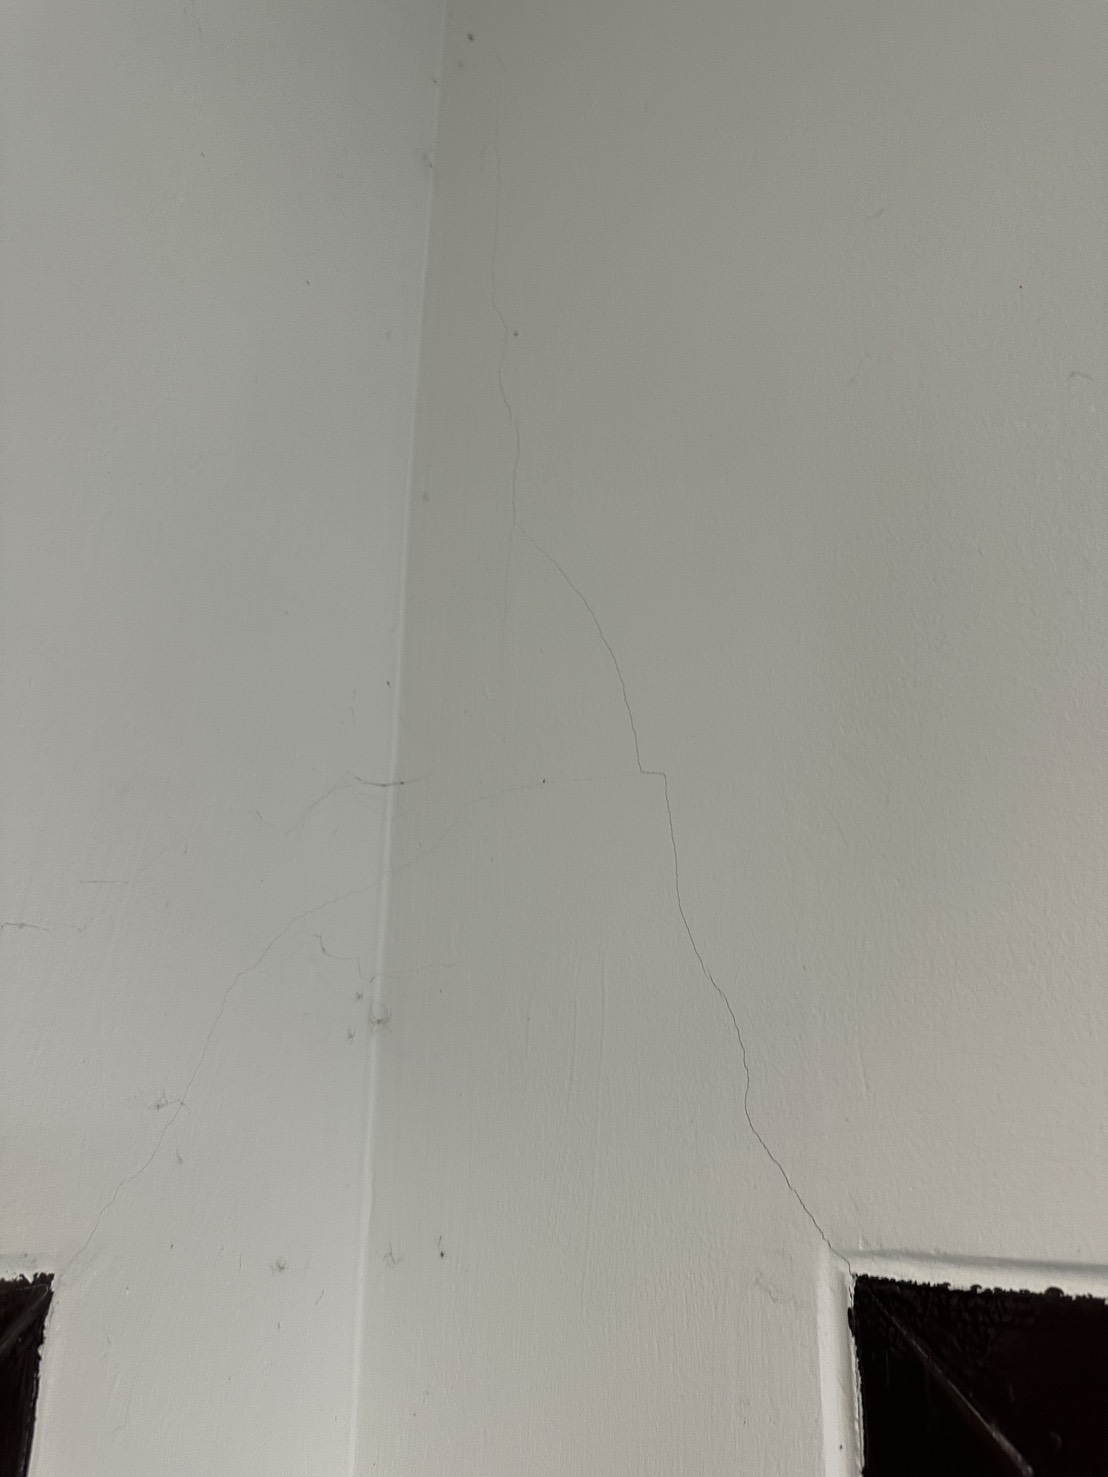Low: (461, 54, 890, 1291)
